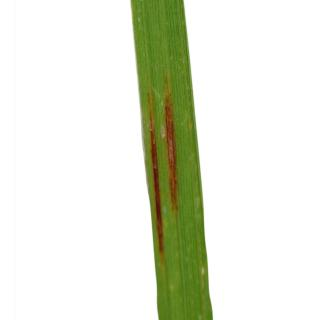Bercak-Cokelat-Sempit: (140, 82, 182, 256)
